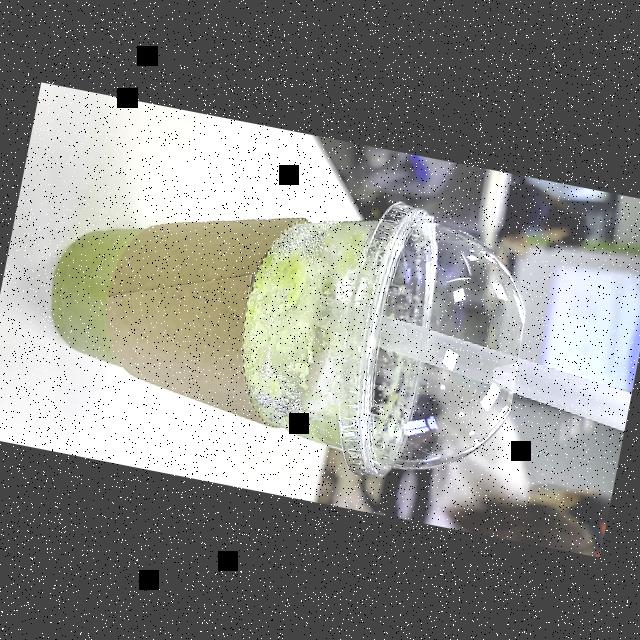plastic_cup: (11, 130, 547, 500)
plastic_cup_lid: (319, 192, 551, 500)
straw: (287, 280, 638, 438)
